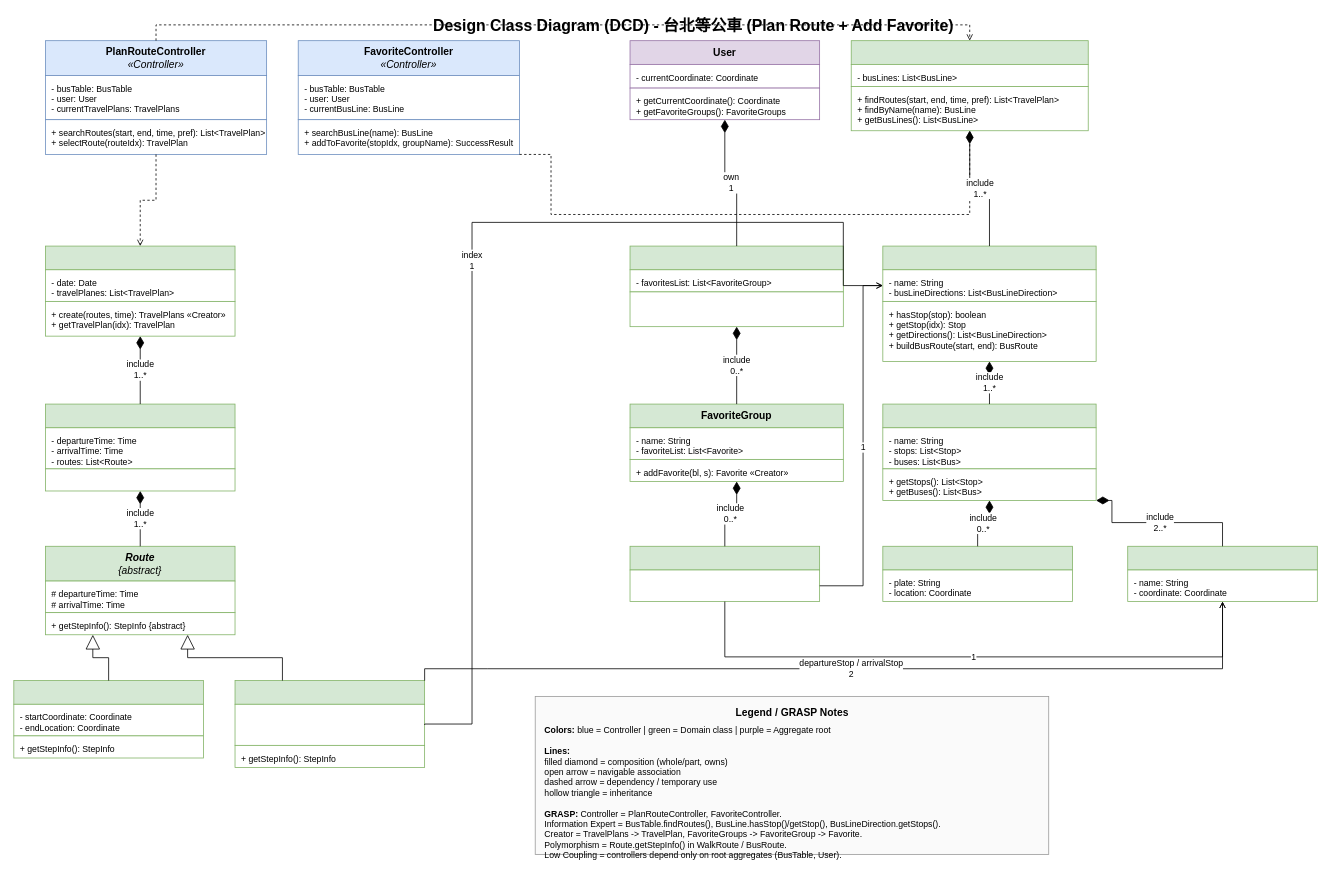
The diagram is 1331 pixels wide and 874 high, and some of its shapes have lost their labels. Here are the shapes that lost their labels. From the top down, the centre of each, then its label:
the point at 969,52: BusTable
the point at 140,257: TravelPlans
the point at 736,257: FavoriteGroups
the point at 989,257: BusLine
the point at 736,309: + createGroup(name): FavoriteGroup «Creator» + findGroup(name): FavoriteGroup
the point at 140,415: TravelPlan
the point at 989,415: BusLineDirection
the point at 140,479: + getRoutes(): List<Route>
the point at 724,557: Favorite
the point at 977,557: Bus
the point at 1222,557: Stop
the point at 724,585: - busLine: BusLine - stop: Stop
the point at 108,692: WalkRoute
the point at 329,692: BusRoute
the point at 329,724: - cost: int - departureStop: Stop - arrivalStop: Stop
